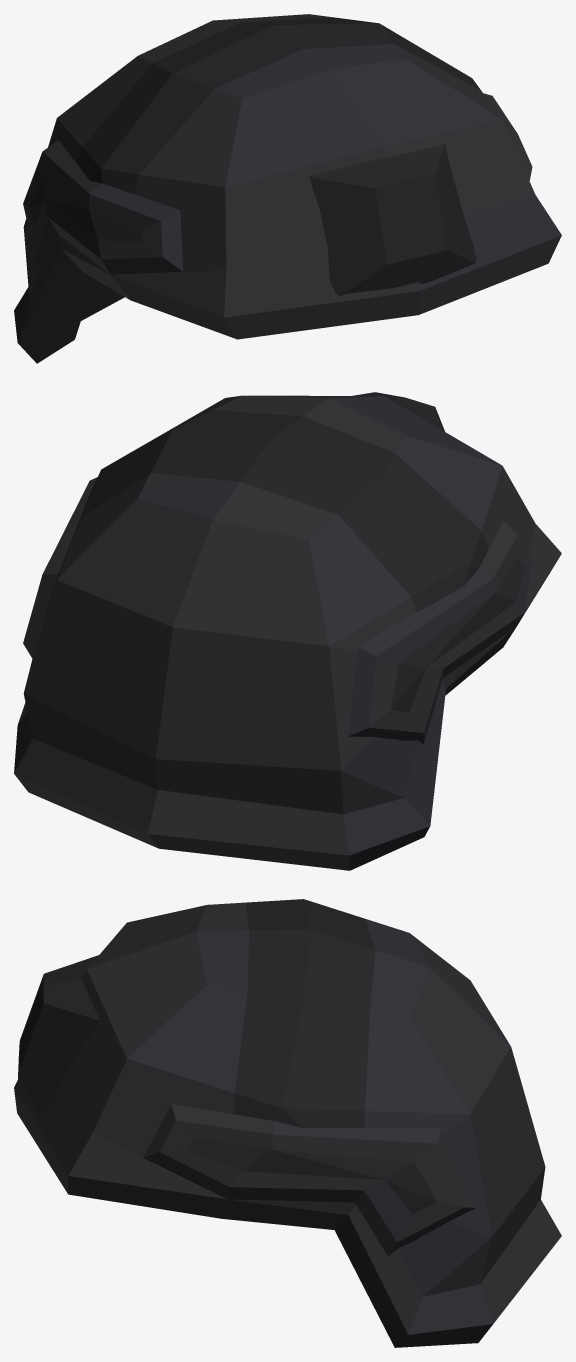
File: SM_Chr_Attach_Helmet_08.fbx
3 renders of one model, top to bottom at view 1: azimuth 30°, elevation 25°; view 2: azimuth 150°, elevation 25°; view 3: azimuth 270°, elevation 25°, orthographic.
Visible parts, largest first — view 1: SM_Chr_Attach_Helmet_08; view 2: SM_Chr_Attach_Helmet_08; view 3: SM_Chr_Attach_Helmet_08.
Boxes of the visible parts, bbox=[...] form: SM_Chr_Attach_Helmet_08: bbox=[14, 14, 561, 363]; SM_Chr_Attach_Helmet_08: bbox=[14, 392, 561, 870]; SM_Chr_Attach_Helmet_08: bbox=[14, 899, 561, 1347].
Size of the model in its own units: 29.94 by 22.51 by 33.37.
